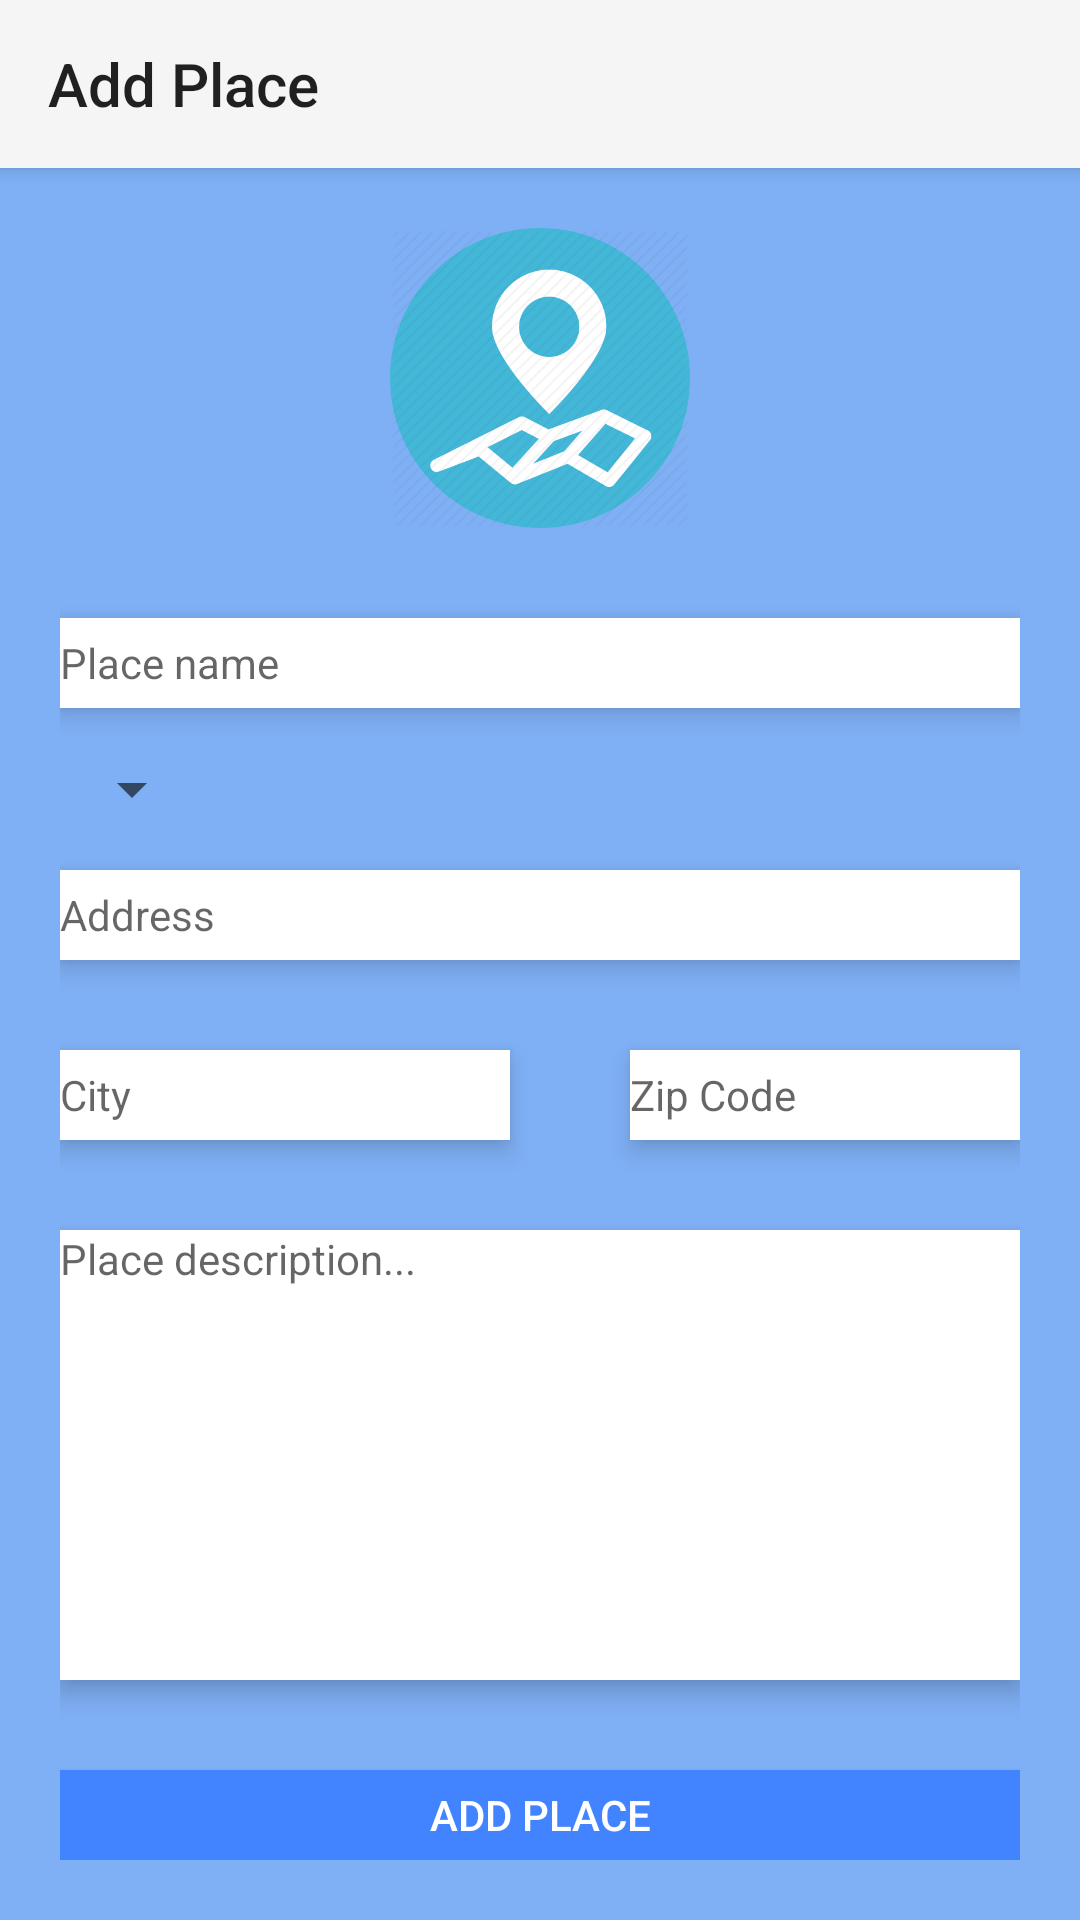

Where icons sit on this 1080*1920 app screen, as bbox=(x1, y1, x2, y2):
places: bbox=(390, 228, 690, 528)
